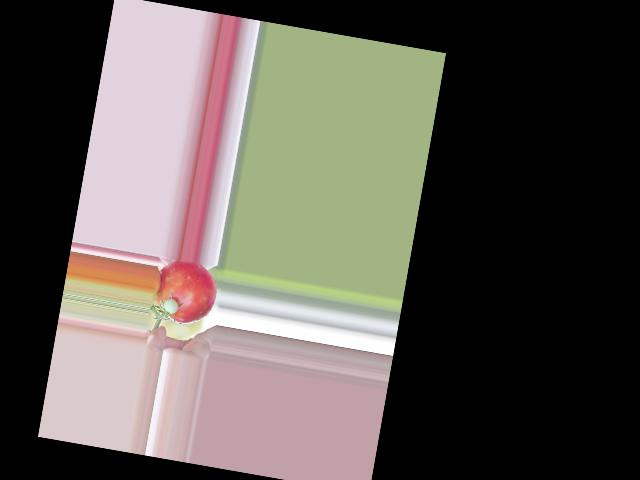tomato: (151, 256, 220, 329)
